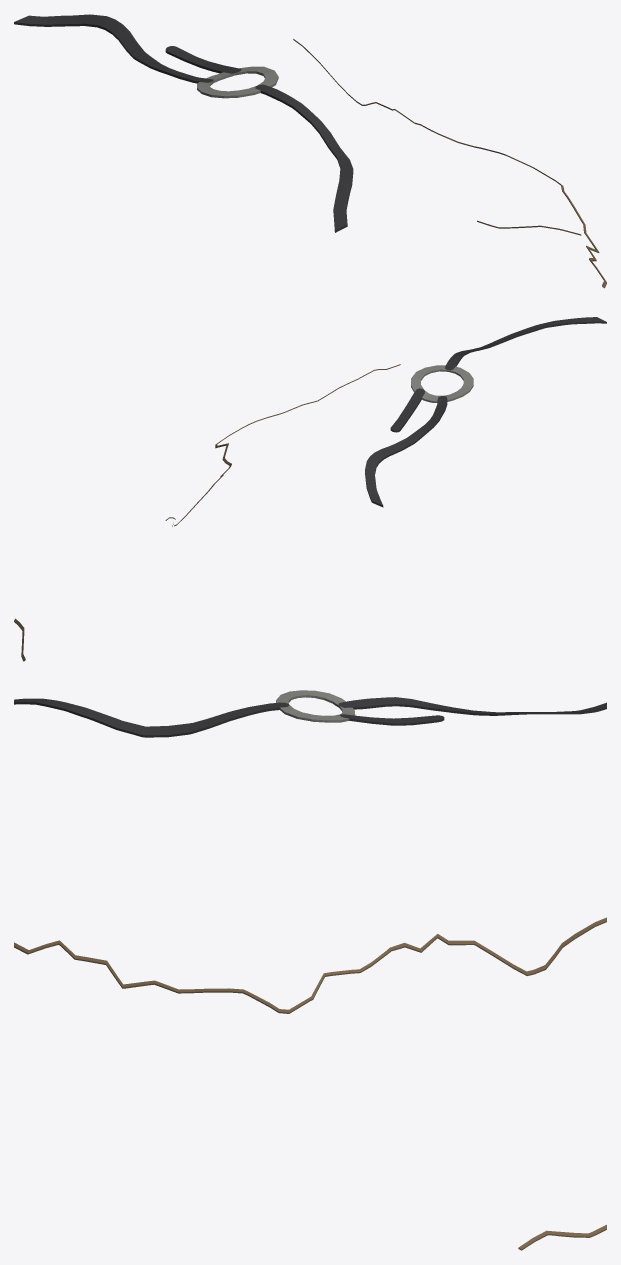
3 renders of one model, top to bottom at view 1: azimuth 30°, elevation 25°; view 2: azimuth 150°, elevation 25°; view 3: azimuth 270°, elevation 25°, orthographic. The views are drawn at different scales.
Size of the model in its own units: 288 by 187 by 292.
